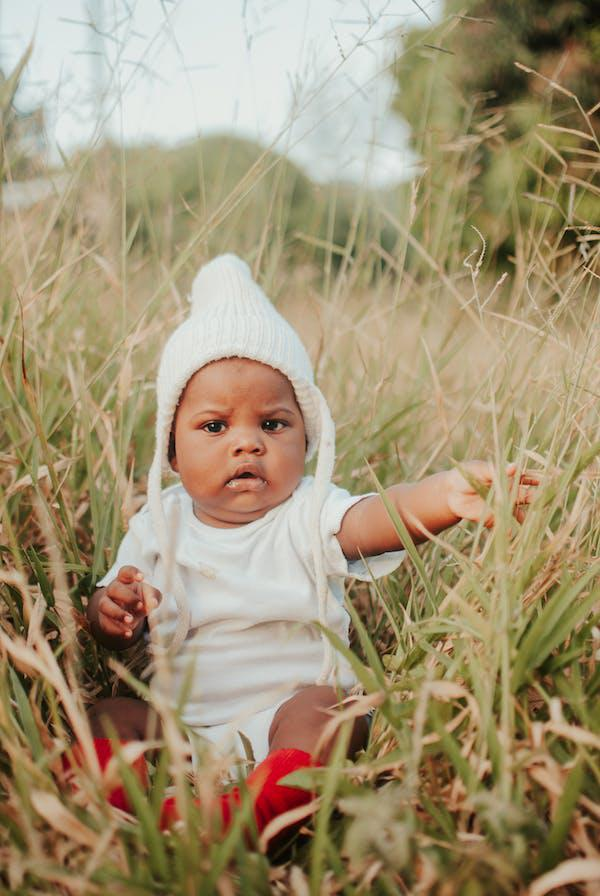child: (66, 257, 557, 825)
